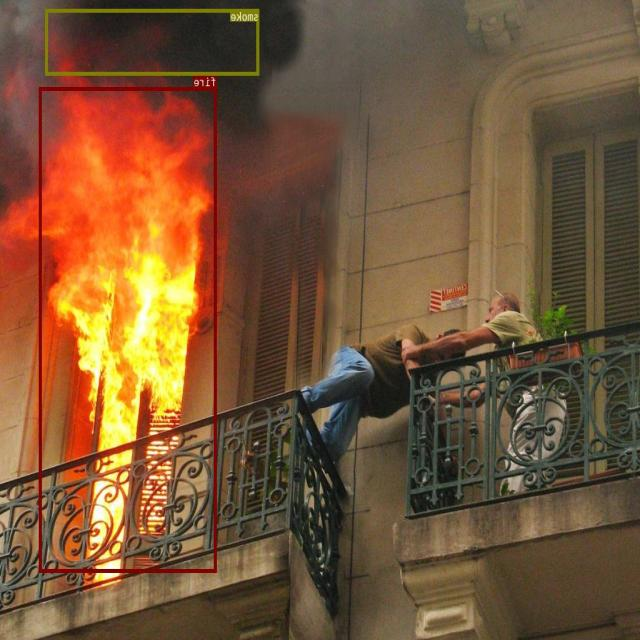fire: (40, 86, 217, 572)
smoke: (46, 8, 260, 75)
